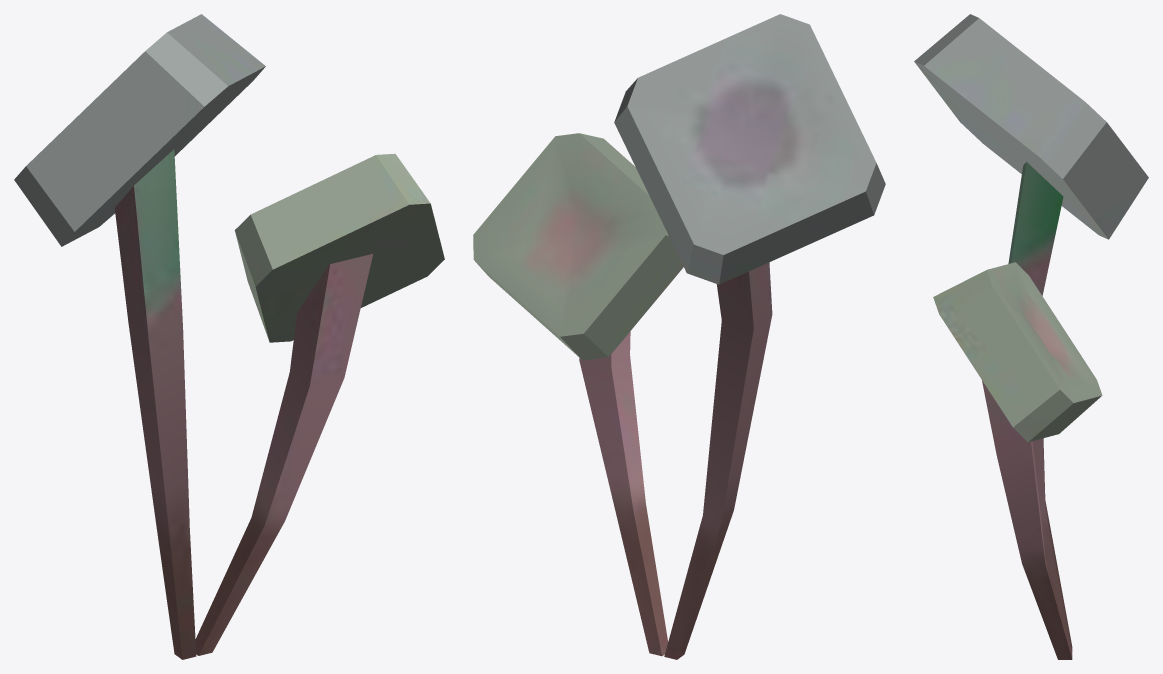
The model's file is FOL_Flower_MID_01.obj.
3 views of the same model, side by side, from view 1: azimuth 30°, elevation 25°; view 2: azimuth 150°, elevation 25°; view 3: azimuth 270°, elevation 25° (orthographic). The views are drawn at different scales.
Parts seen in each view (by area): view 1: FOL_Flower_MID_01; view 2: FOL_Flower_MID_01; view 3: FOL_Flower_MID_01.
Boxes of the visible parts, x1,y1,x2,y2 form: FOL_Flower_MID_01: [14, 14, 444, 659]; FOL_Flower_MID_01: [473, 14, 885, 659]; FOL_Flower_MID_01: [914, 14, 1148, 659].
Size of the model in its own units: 0.2623 by 0.4029 by 0.1423.
Materials: 1 (1 with a texture image).
